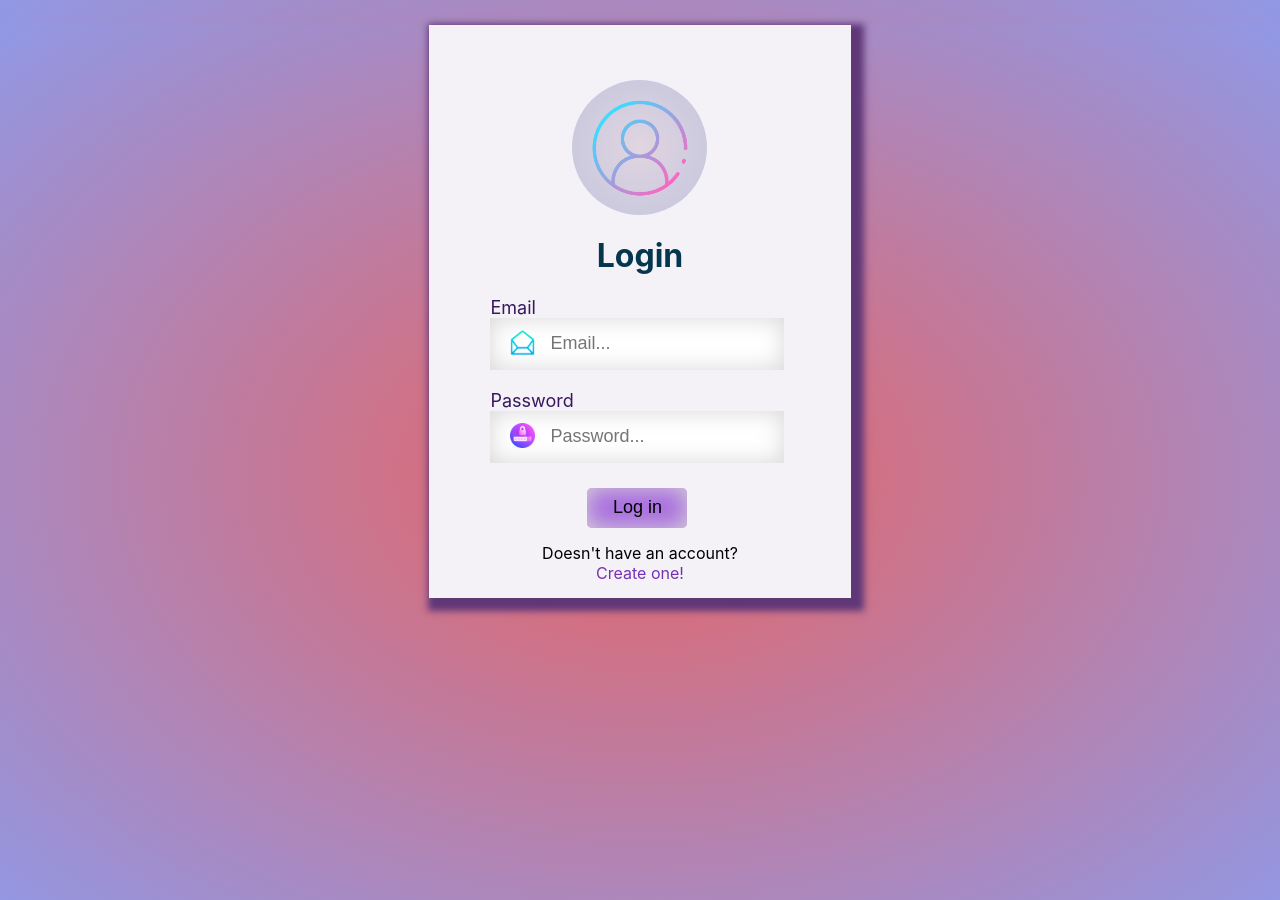
Test: if login is unsuccessfull error message appears
Click the button "Log in" at (638, 508), box [588,488,688,528]
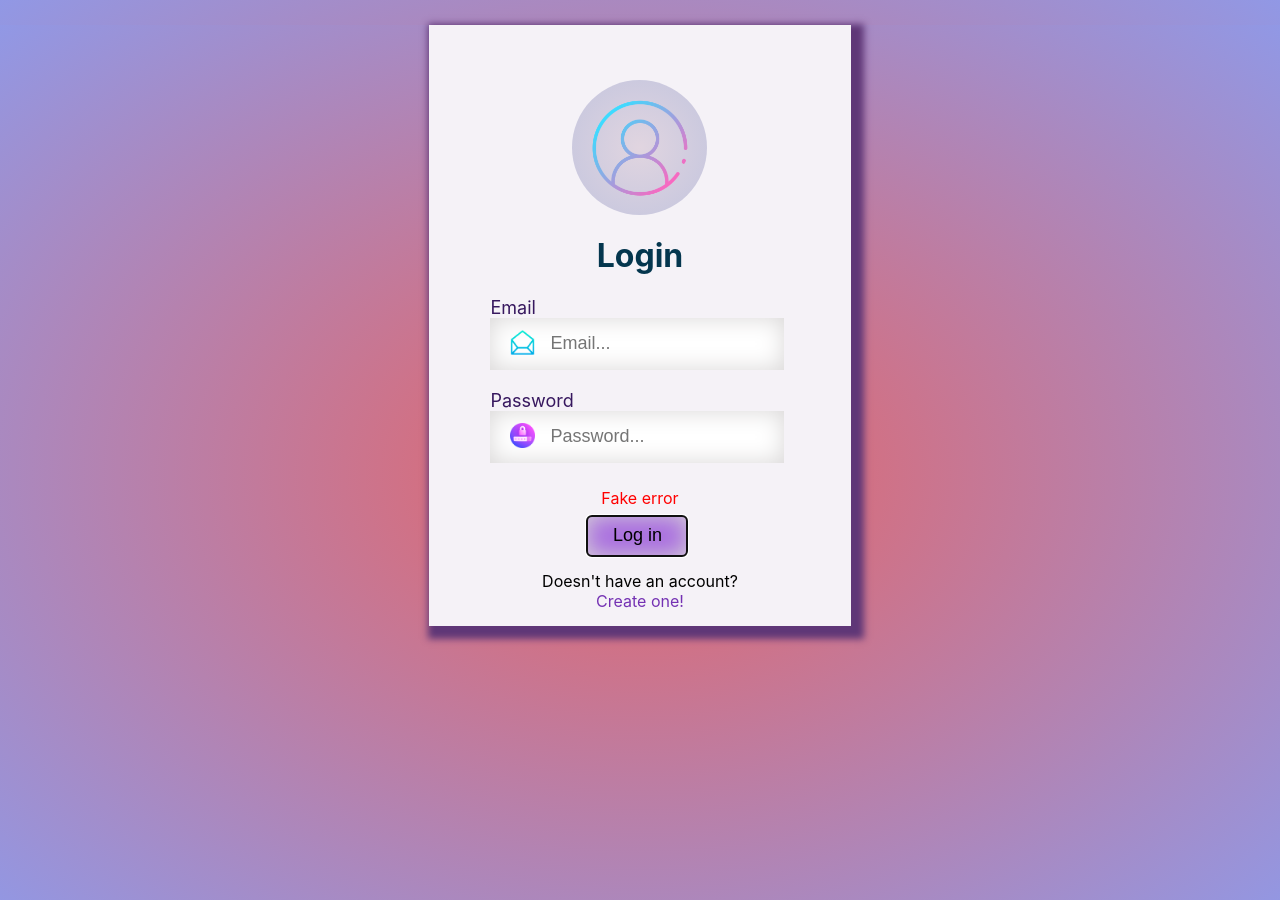
Expected: the text "Fake error" is shown, [601,488,679,508]
